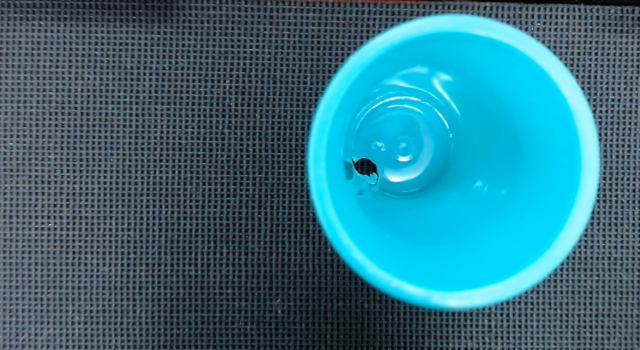hole: (351, 157, 377, 176)
